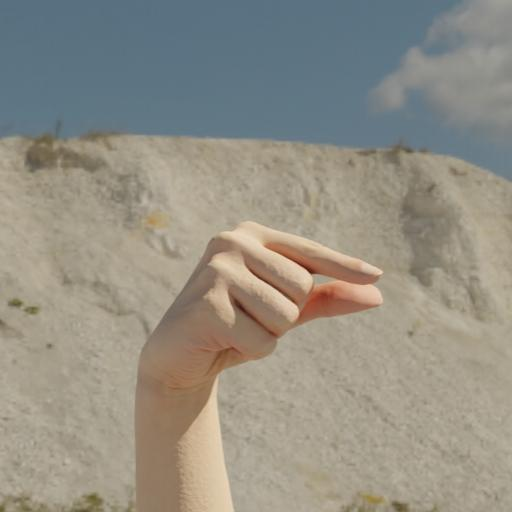G: (104, 211, 395, 512)
